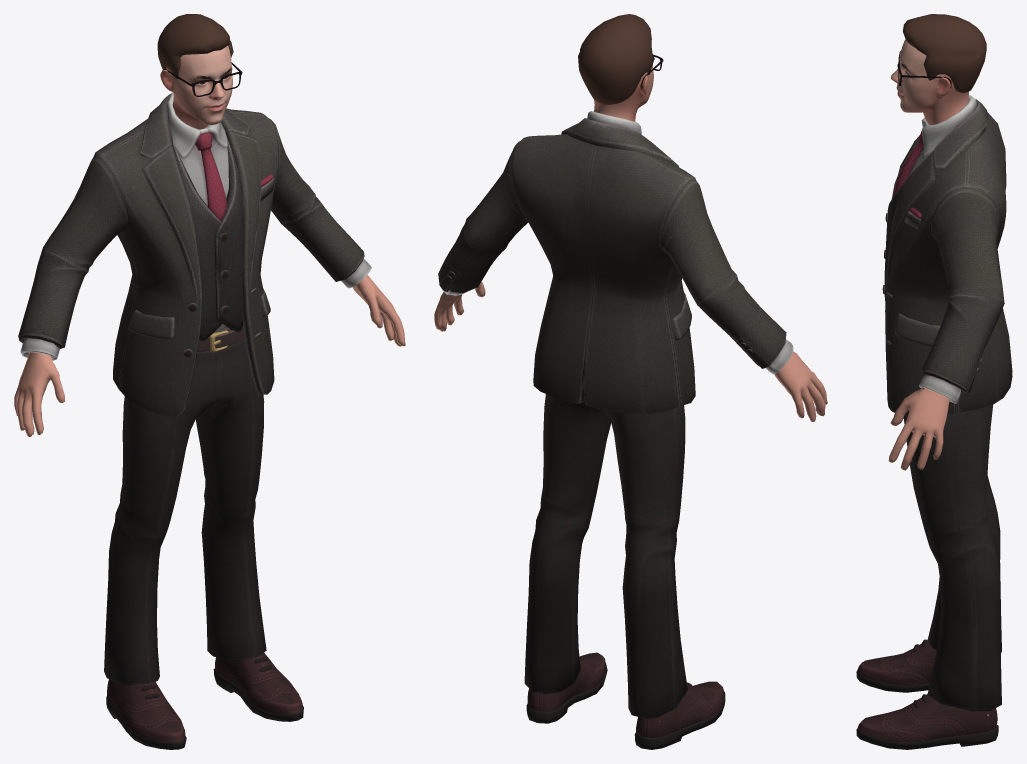
File: Avatar.glb
3 views of the same model, side by side, from view 1: azimuth 30°, elevation 25°; view 2: azimuth 150°, elevation 25°; view 3: azimuth 270°, elevation 25° (orthographic).
Visible parts, largest first — view 1: Wolf3D_Avatar; view 2: Wolf3D_Avatar; view 3: Wolf3D_Avatar.
Part boxes in pixels (bbox=[...]): Wolf3D_Avatar: bbox=[14, 14, 405, 749]; Wolf3D_Avatar: bbox=[434, 14, 827, 749]; Wolf3D_Avatar: bbox=[856, 14, 1012, 749].
Size of the model in its own units: 1.06 by 1.86 by 0.3773.
Materials: 1 (1 with a texture image).
